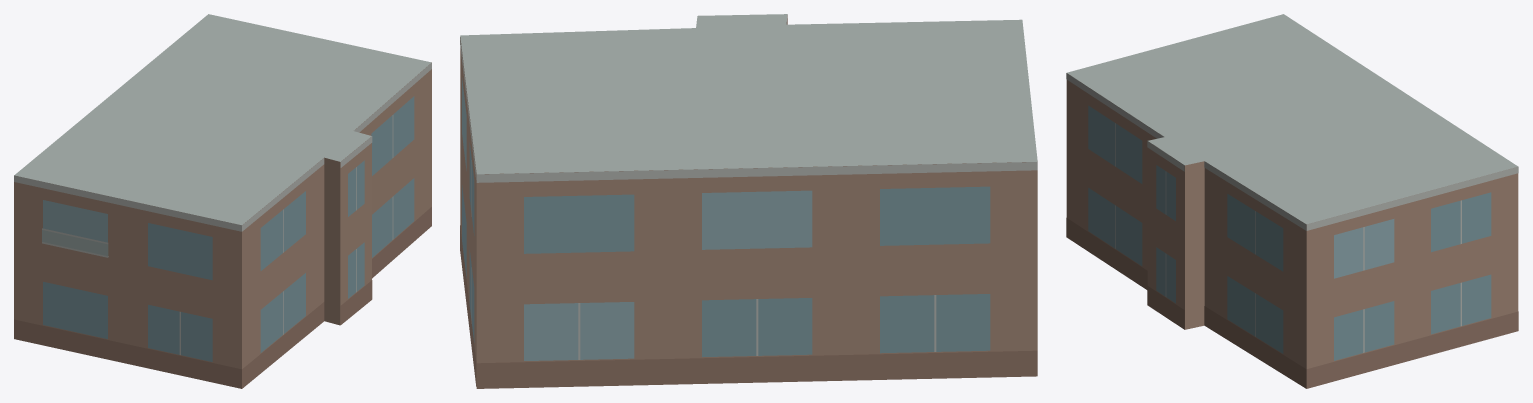
File: survey-upis-32621838.glb
3 renders of one model, left to right at view 1: azimuth 30°, elevation 25°; view 2: azimuth 150°, elevation 25°; view 3: azimuth 270°, elevation 25°, orthographic. The views are drawn at different scales.
Visible parts, largest first — view 1: survey-upis-32621838.tmp; view 2: survey-upis-32621838.tmp; view 3: survey-upis-32621838.tmp.
Boxes of the visible parts, box(x1,y1,x2,y2) form: survey-upis-32621838.tmp: box(14, 14, 431, 388); survey-upis-32621838.tmp: box(460, 14, 1037, 388); survey-upis-32621838.tmp: box(1066, 14, 1518, 388).
Size of the model in its own units: 16.75 by 6.1 by 15.2.
